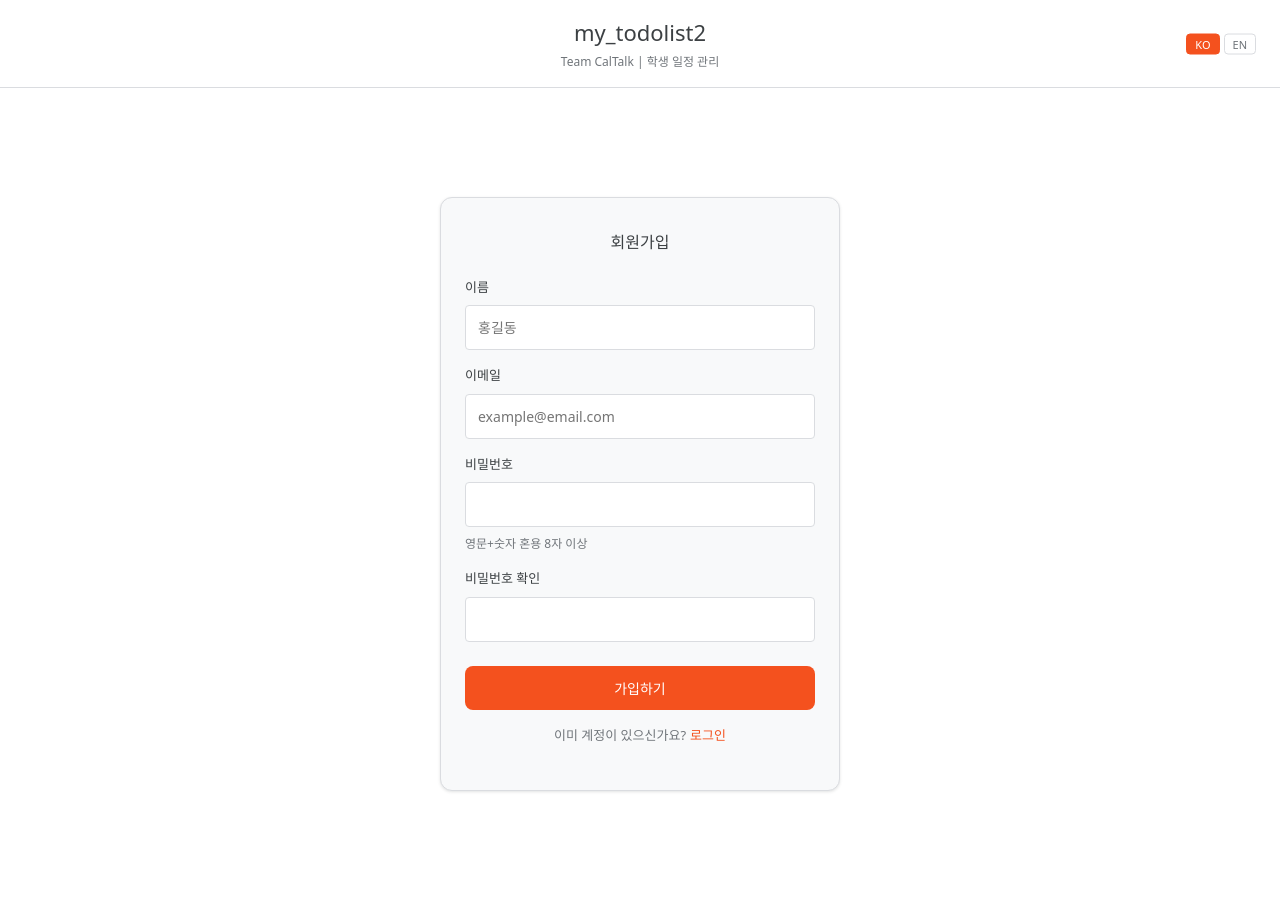
Test case: SignupPage › 비밀번호가 규칙에 맞지 않으면 블러 시 에러가 표시된다
In the password field labelled "비밀번호": (640, 505) [465,482,815,527], type "short"
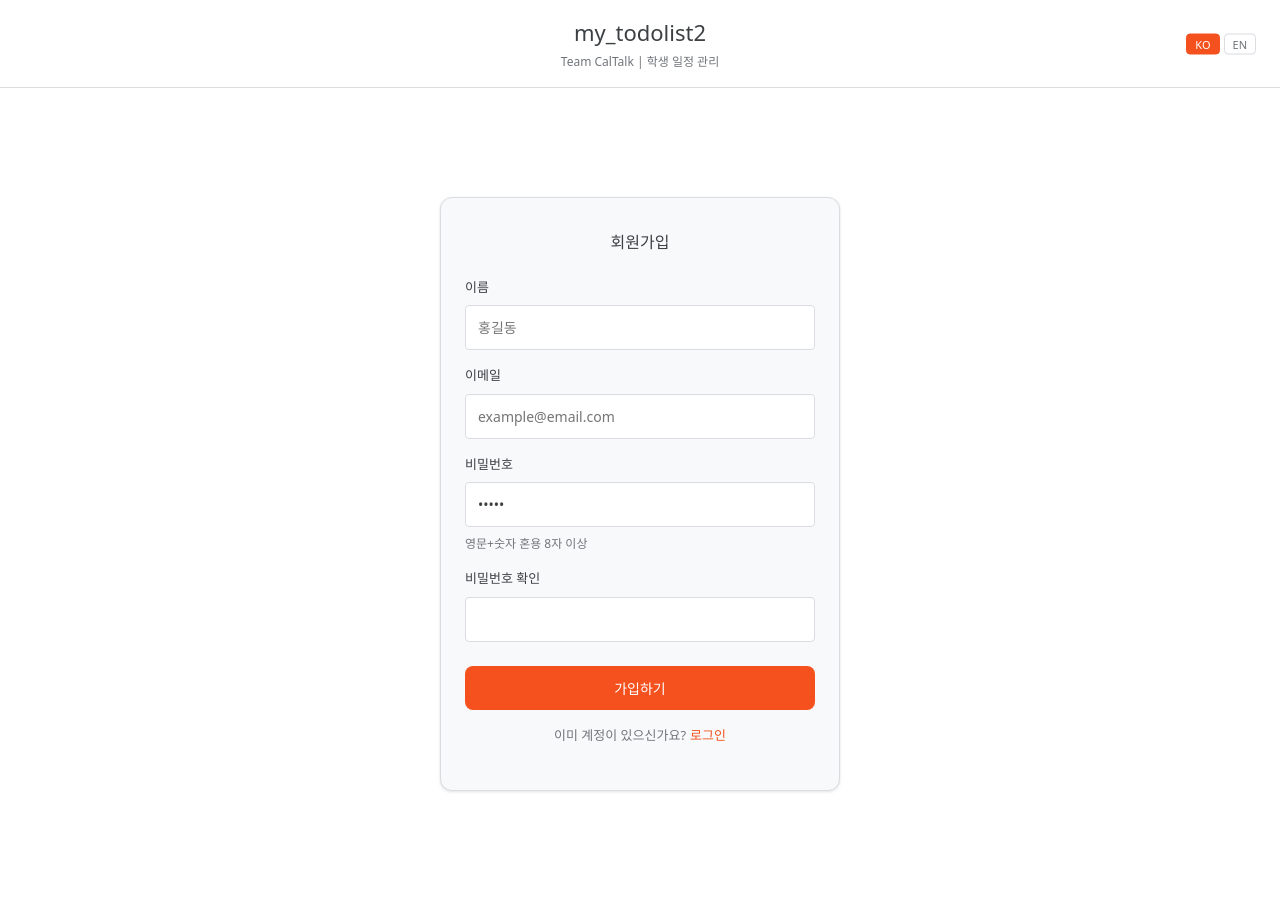
Leave the password field labelled "비밀번호", box [465,482,815,527]
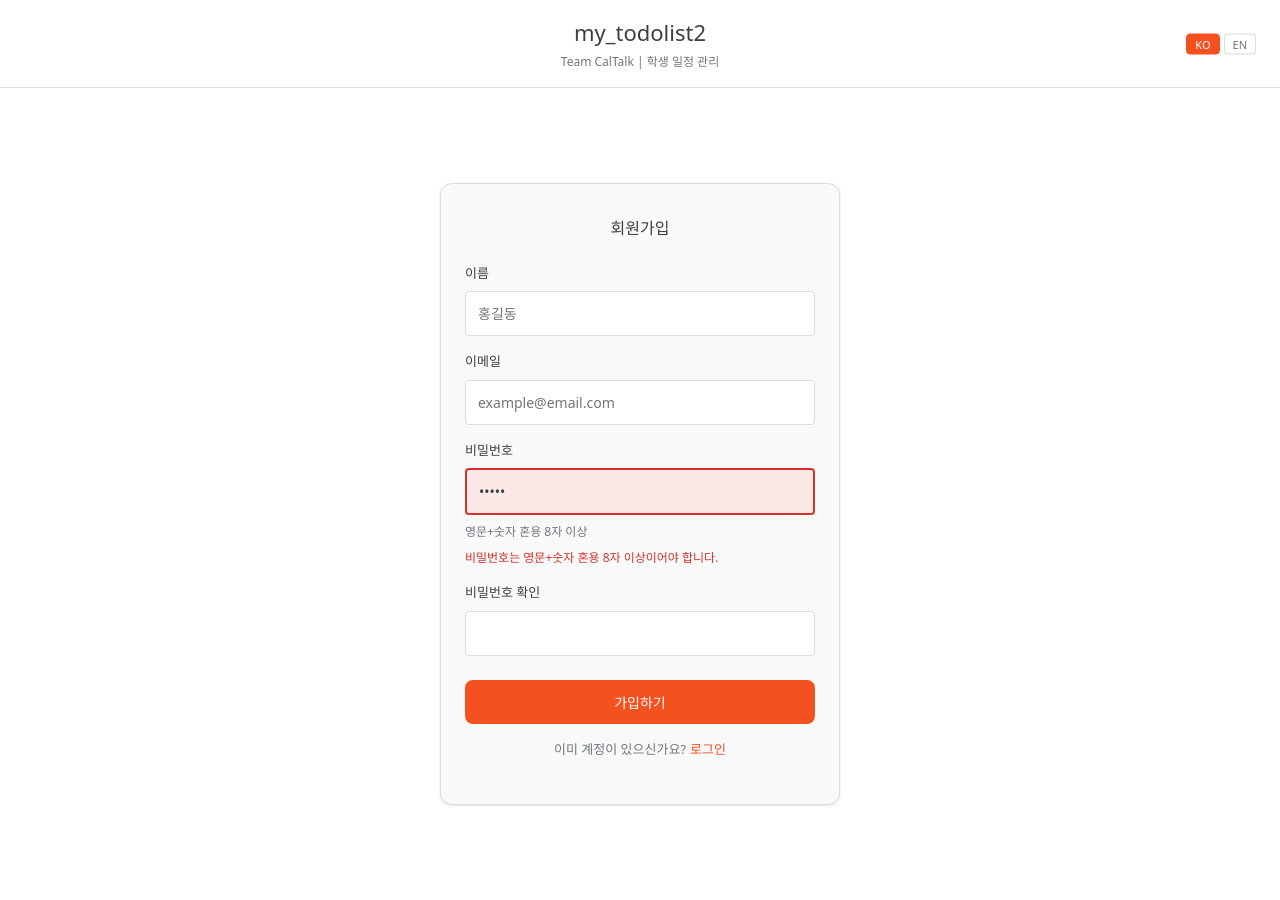
Expected: the text "비밀번호는 영문+숫자 혼용 8자 이상이어야 합니다." is shown, [465,549,718,566]
